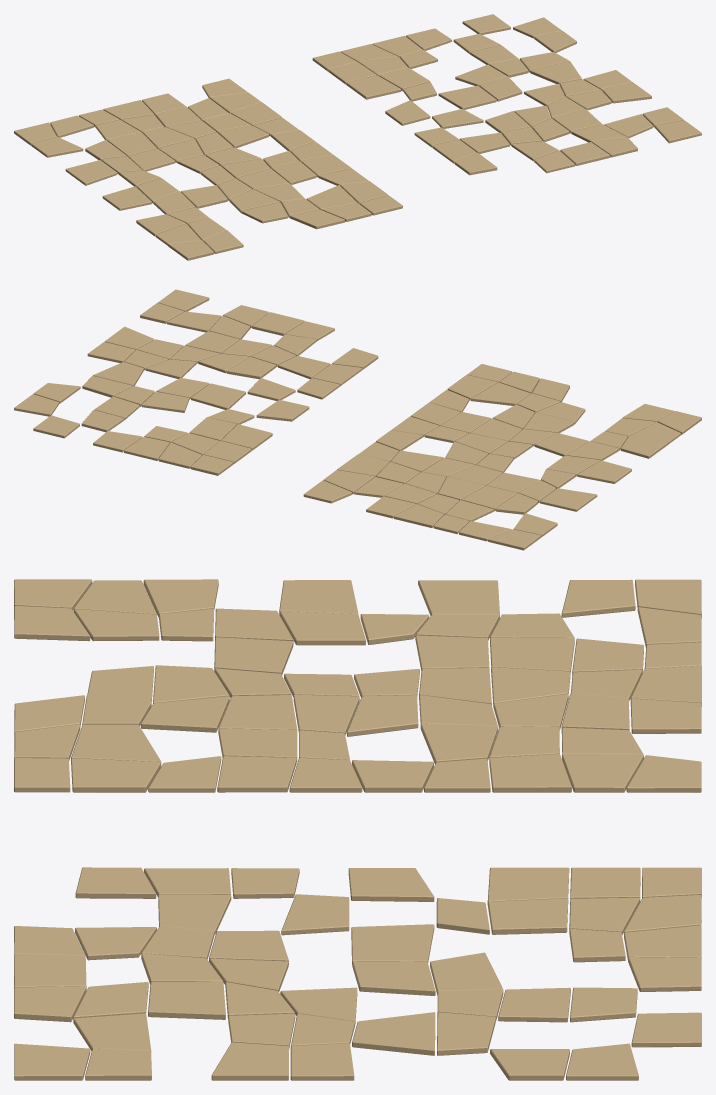
File: Floor3_ArenaStone.fbx
3 views of the same model, one above another, from view 1: azimuth 30°, elevation 25°; view 2: azimuth 150°, elevation 25°; view 3: azimuth 270°, elevation 25° (orthographic). The views are drawn at different scales.
Visible parts, largest first — view 1: Arena2-1_0_0.001; view 2: Arena2-1_0_0.001; view 3: Arena2-1_0_0.001.
Boxes of the visible parts, <box> form: Arena2-1_0_0.001: <box>14,14,701,260</box>; Arena2-1_0_0.001: <box>14,289,701,550</box>; Arena2-1_0_0.001: <box>14,579,701,1080</box>.
Bounding box in the file's own units: 14981 × 88.27 × 8781.
